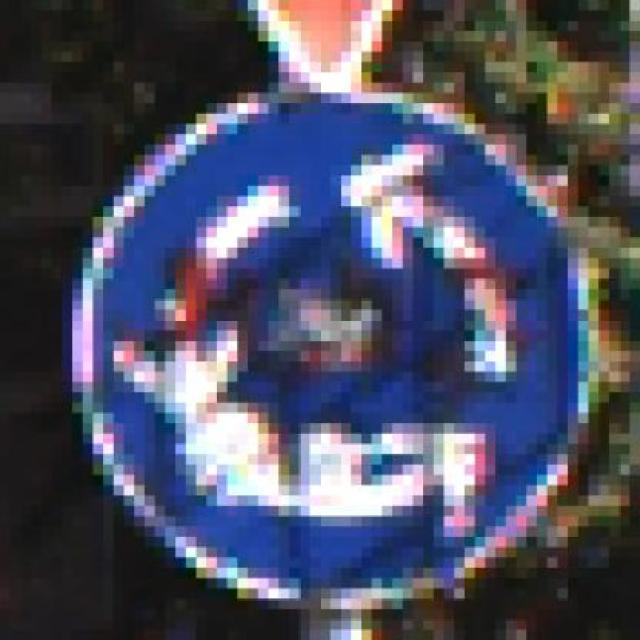Round-About: (31, 83, 598, 609)
